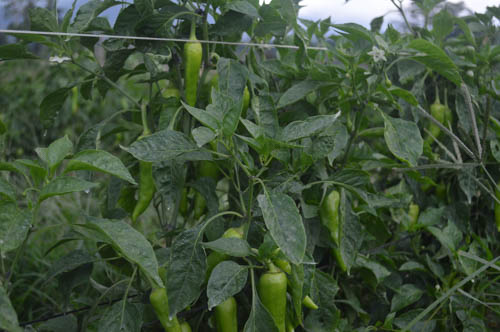ChiliPepper: (130, 139, 154, 223), (205, 227, 241, 276), (192, 155, 217, 219), (257, 272, 284, 329), (182, 42, 201, 107), (146, 287, 174, 327), (427, 101, 444, 151), (326, 190, 341, 246), (212, 297, 234, 330)
